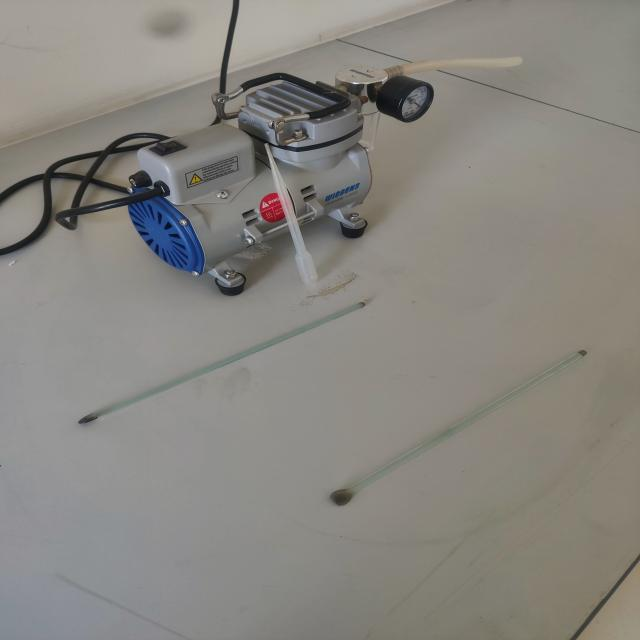Glass_Rod: (314, 325, 617, 522), (56, 292, 391, 441)
Pipette: (254, 130, 345, 307)
